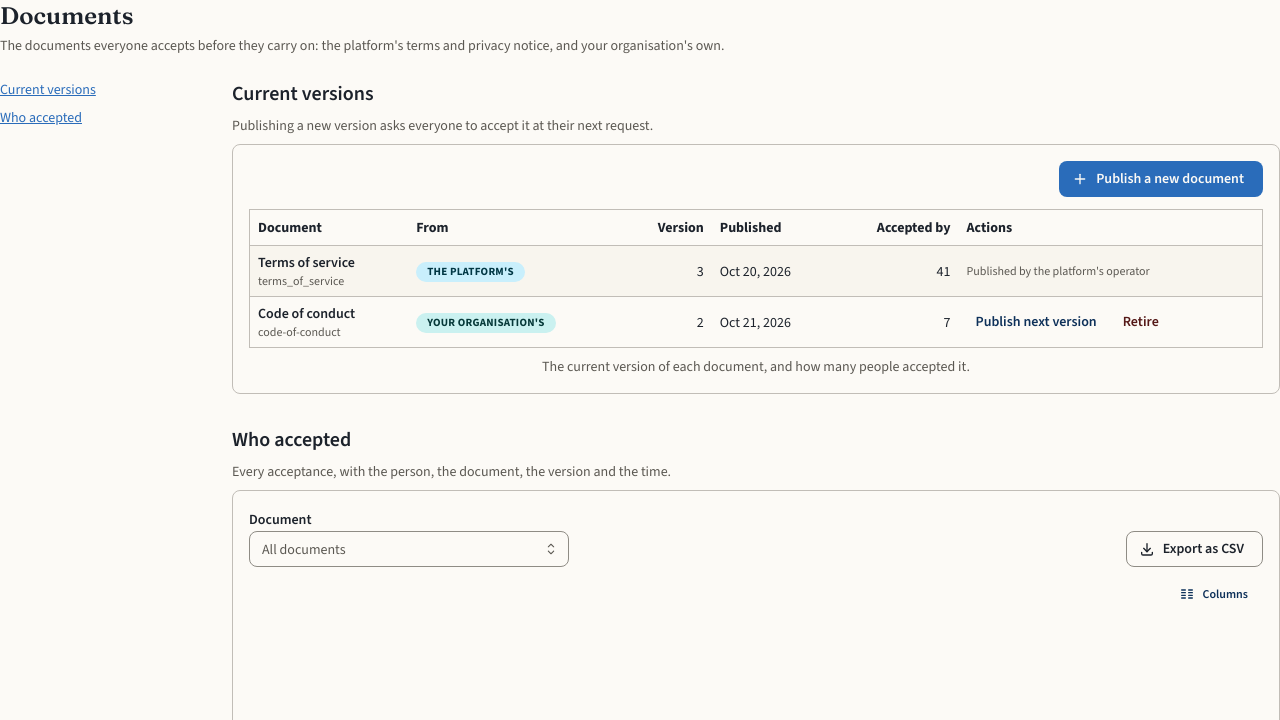
Test: the console's documents page › retires a tenant document behind a confirmation, so nobody is asked to accept it any more [TF-028 AC1, ADR-0049]
Click the button with aria-label "Retire Code of conduct": (1141,322) [1114,309,1168,335]
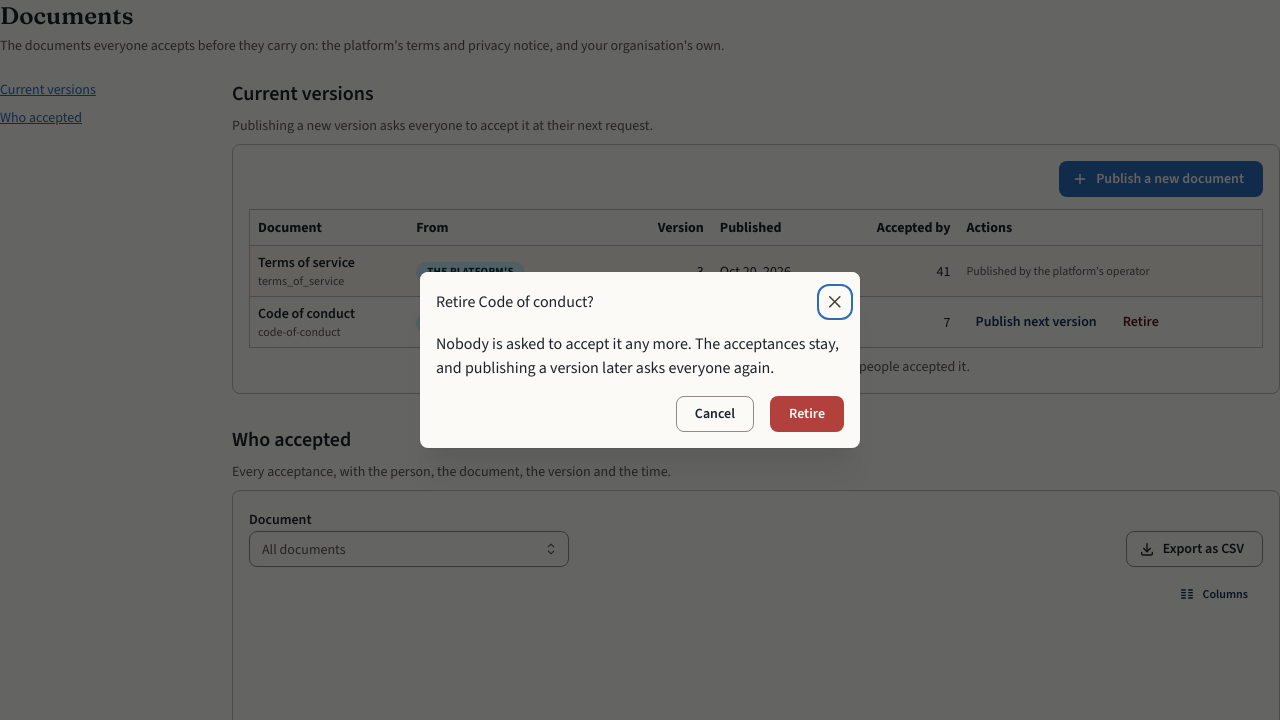
Expected: the dialog "Retire Code of conduct?" shows "The acceptances stay", [436,333,839,378]
Click the button "Retire": (807,414) [770,396,844,432]
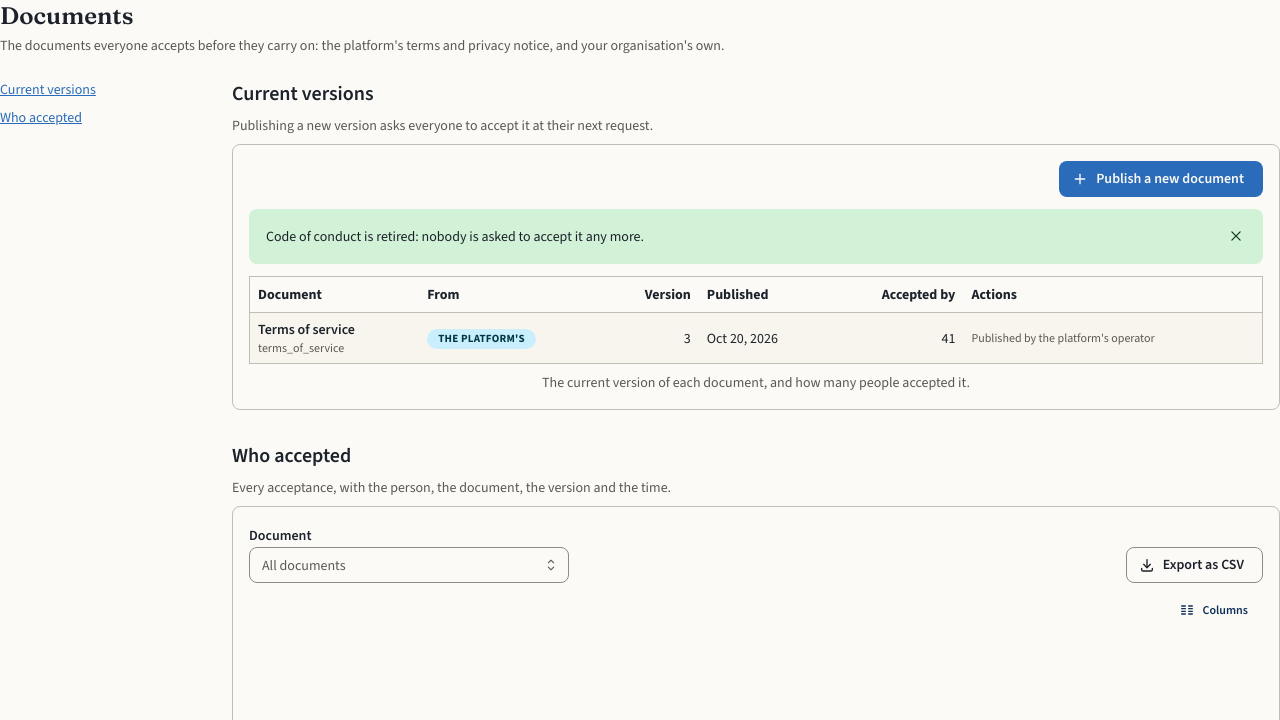
Expected: the text "Code of conduct is retired: nobody is asked to accept it any more." is shown, [266,227,644,246]
Expected: the heading "Retire Code of conduct" is gone
